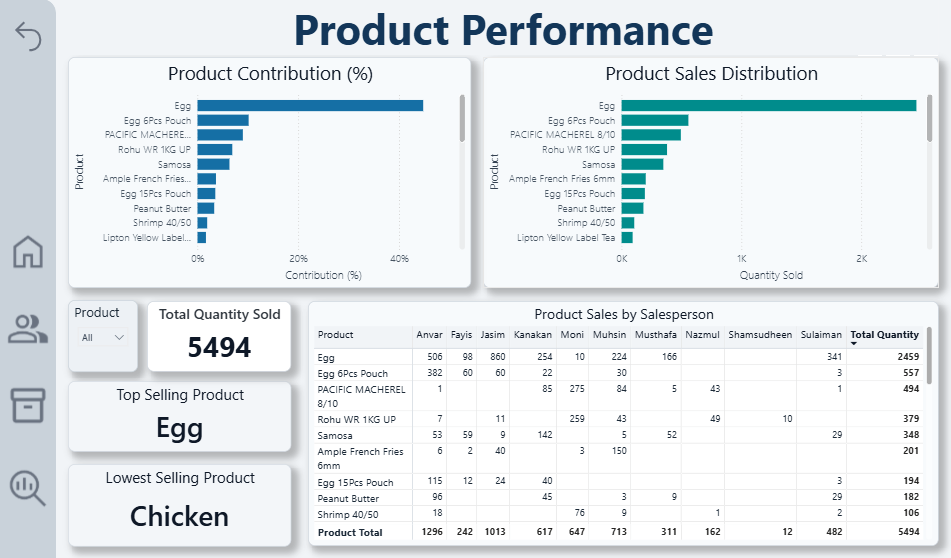

This screenshot's page, from the dashboard's own definition file:
{"tool":"powerbi","page":{"name":"Product Performance","canvas":[1360,800],"ordinal":2},"visuals":[{"type":"shape","box":[0,0,80,800],"z":0,"group":"g1"},{"type":"clusteredBarChart","title":"Product Sales Distribution","fields":{"Category":["March 2025.Product Name"],"Y":["Sum(March 2025.Quantity)"]},"box":[690,82.5,651.2,330],"z":0},{"type":"clusteredBarChart","title":"Product Contribution (%)","fields":{"Category":["March 2025.Product Name"],"Y":["Measure Table.Product Contribution %"]},"box":[97.5,82.5,576.2,330],"z":1000},{"type":"actionButton","box":[0,326.2,80,70],"z":1000,"group":"g1"},{"type":"shape","box":[97.5,0,1243.8,80],"z":2000},{"type":"actionButton","box":[0,436.2,80,70],"z":2000,"group":"g1"},{"type":"pivotTable","title":"Product Sales by Salesperson","fields":{"Values":["Sum(March 2025.Quantity)"],"Rows":["March 2025.Product Name"],"Columns":["Sales Report (Feb & Mar).Sales Man"]},"box":[440,431.2,901.2,350],"z":3000},{"type":"actionButton","box":[0,546.2,80,70],"z":3000,"group":"g1"},{"type":"actionButton","box":[0,663.8,80,70],"z":4000,"group":"g1"},{"type":"actionButton","box":[0,25,80,55],"z":5000,"group":"g1"},{"type":"slicer","title":"Product","fields":{"Values":["March 2025.Product Name"]},"box":[97.5,430,100,102.5],"z":5000},{"type":"card","title":"Top Selling Product","fields":{"Values":["Min(March 2025.Product Name)"]},"box":[97.5,546.2,318.8,101.2],"z":6000},{"type":"card","title":"Lowest Selling Product","fields":{"Values":["Min(March 2025.Product Name)"]},"box":[97.5,663.8,318.8,117.5],"z":7000},{"type":"group","id":"g1","title":"Group 1","box":[0,0,80,800],"z":8000},{"type":"card","title":"Total Quantity Sold","fields":{"Values":["Measure Table.Total Quantity Sold"]},"box":[210,431.2,206.2,101.2],"z":8002}]}

Visuals, with their boxes on the page's 1360x800 design canvas (x1, y1, x2, y2). These are canvas units, not pixel positions in the 951x558 screenshot, which may show the page scaled, cropped or inside an application window:
shape: 0, 0, 80, 800
"Product Sales Distribution" clusteredBarChart: 690, 82, 1341, 412
"Product Contribution (%)" clusteredBarChart: 98, 82, 674, 412
actionButton: 0, 326, 80, 396
shape: 98, 0, 1341, 80
actionButton: 0, 436, 80, 506
"Product Sales by Salesperson" pivotTable: 440, 431, 1341, 781
actionButton: 0, 546, 80, 616
actionButton: 0, 664, 80, 734
actionButton: 0, 25, 80, 80
"Product" slicer: 98, 430, 198, 532
"Top Selling Product" card: 98, 546, 416, 647
"Lowest Selling Product" card: 98, 664, 416, 781
"Group 1" group: 0, 0, 80, 800
"Total Quantity Sold" card: 210, 431, 416, 532
